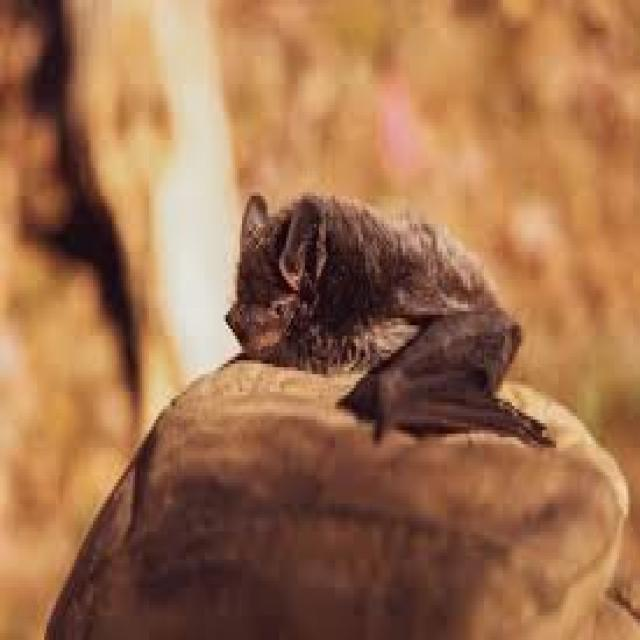Bat: (234, 189, 530, 444)
